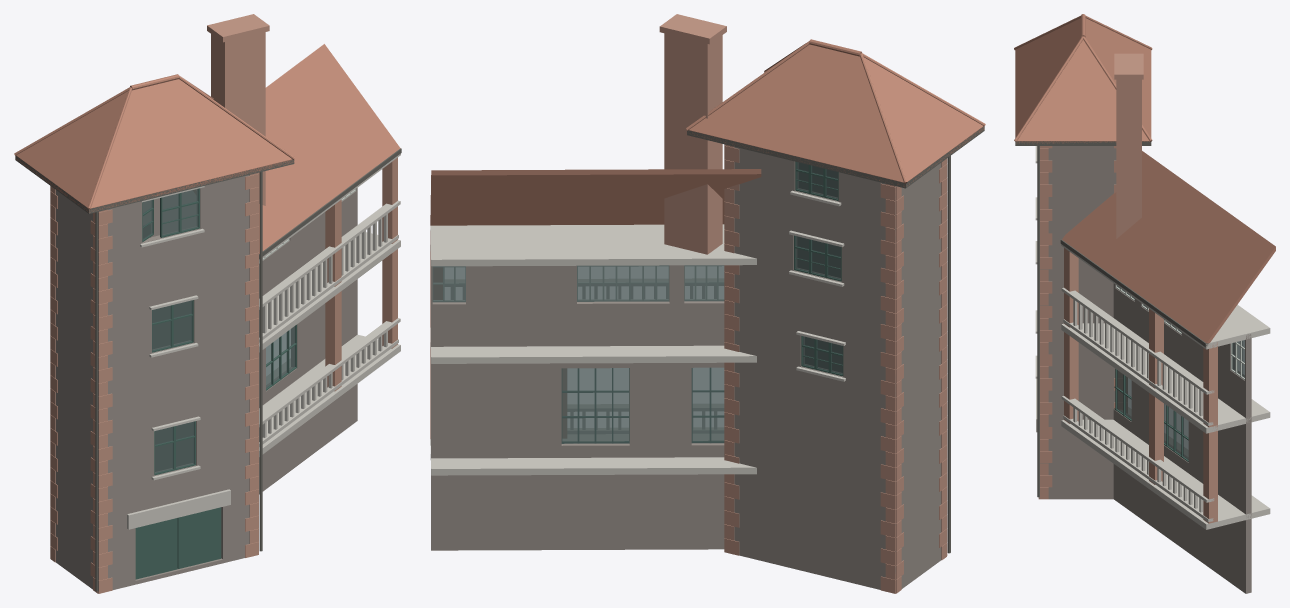
The model's file is full-source.glb.
The picture shows the model from 3 angles, left to right: view 1: azimuth 30°, elevation 25°; view 2: azimuth 150°, elevation 25°; view 3: azimuth 270°, elevation 25°; orthographic projection. The views are drawn at different scales.
Visible parts, largest first — view 1: 新华村15号院面方塔与斜接侧廊; view 2: 新华村15号院面方塔与斜接侧廊; view 3: 新华村15号院面方塔与斜接侧廊.
Part boxes in pixels (x1,y1,x2,y2): 新华村15号院面方塔与斜接侧廊: [14, 14, 401, 593]; 新华村15号院面方塔与斜接侧廊: [430, 14, 985, 593]; 新华村15号院面方塔与斜接侧廊: [1014, 14, 1275, 593].
Bounding box in the file's own units: 14.61 × 16.28 × 8.63.
